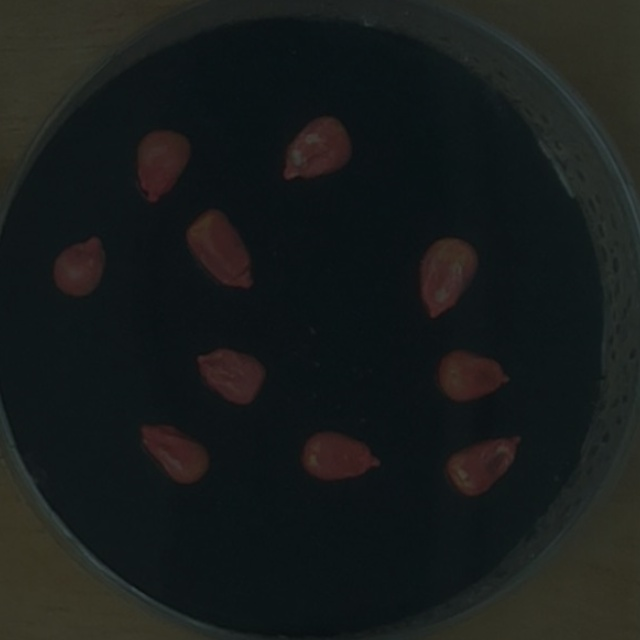Zea mays: (176, 201, 264, 297), (435, 423, 530, 503), (411, 228, 488, 326), (273, 106, 360, 188), (130, 412, 216, 491), (126, 121, 198, 213), (187, 339, 275, 413), (429, 339, 520, 409), (294, 422, 389, 487), (44, 224, 114, 304)
